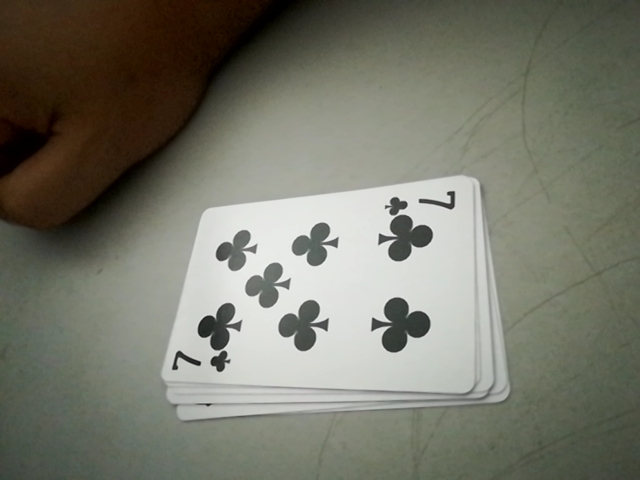mh 7: (385, 186, 463, 218), (168, 346, 230, 384)
